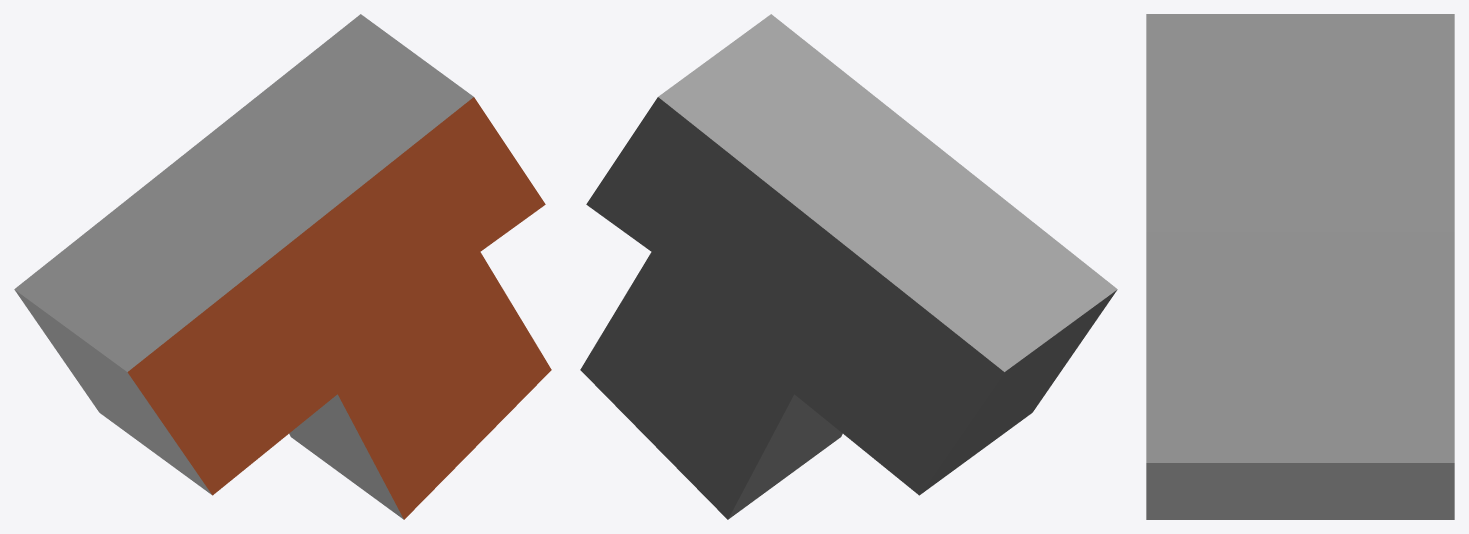
The model's file is construction_3706_assumed_A_Casa_h6m.obj.
The picture shows the model from 3 angles, left to right: view 1: azimuth 30°, elevation 25°; view 2: azimuth 150°, elevation 25°; view 3: azimuth 270°, elevation 25°; orthographic projection. The views are drawn at different scales.
Parts seen in each view (by area): view 1: construction_3706_assumed_A_Casa; view 2: construction_3706_assumed_A_Casa; view 3: construction_3706_assumed_A_Casa.
Boxes of the visible parts, box(x1,y1,x2,y2) form: construction_3706_assumed_A_Casa: box(14, 14, 551, 519); construction_3706_assumed_A_Casa: box(580, 14, 1117, 519); construction_3706_assumed_A_Casa: box(1146, 14, 1454, 519).
Bounding box in the file's own units: 12.98 × 11.87 × 6.
